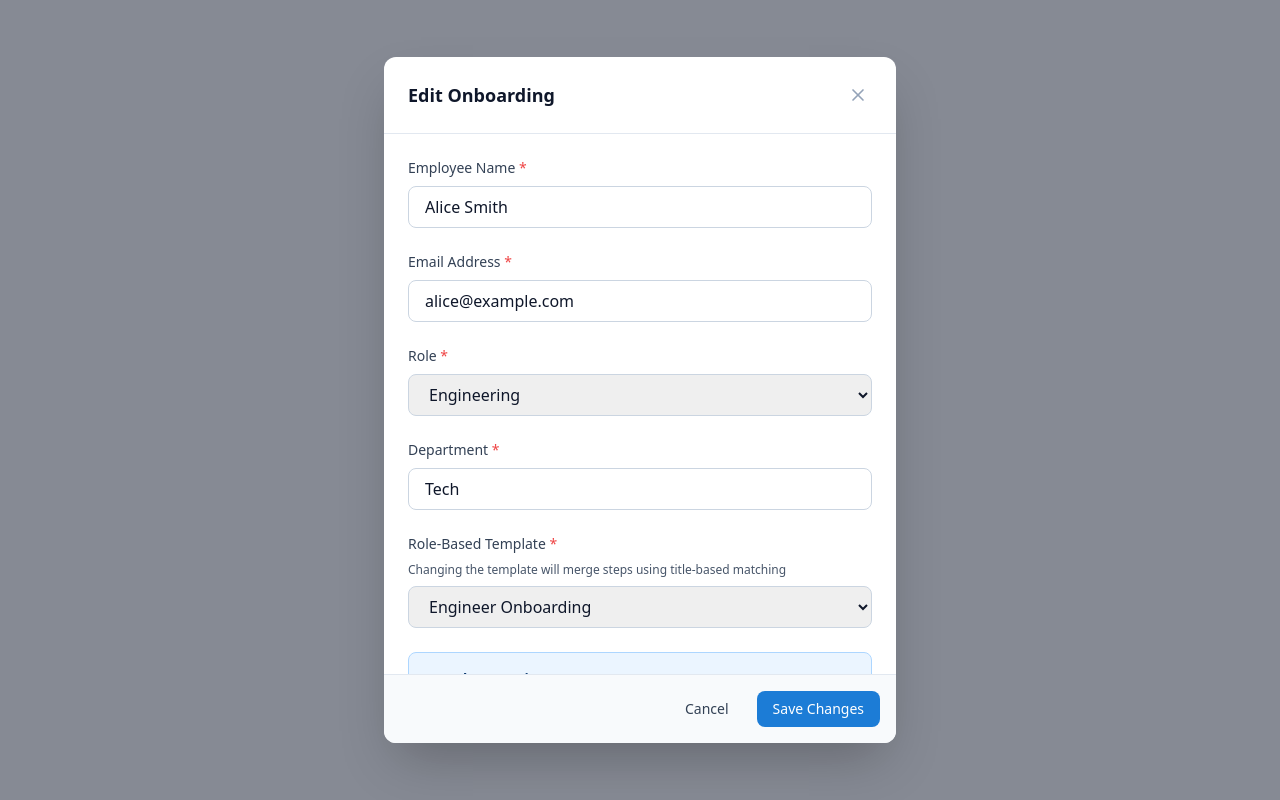
Scenario: EditHireModal › Validation › shows validation error for invalid email format
Replace the text in the field named "employee email" with "not-an-email" at coordinates (640, 301), box [408, 280, 872, 322]
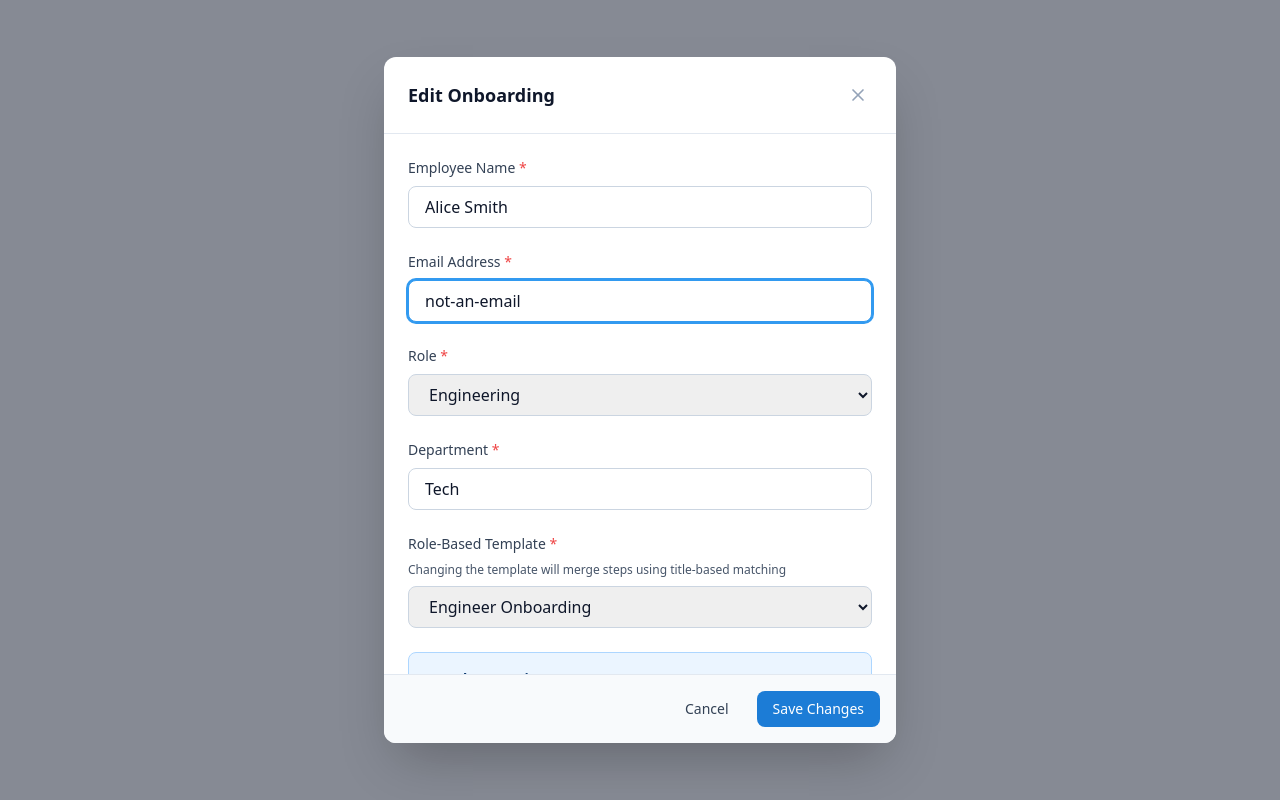
Click the button "Save Changes" at coordinates (818, 709), box [757, 691, 880, 727]
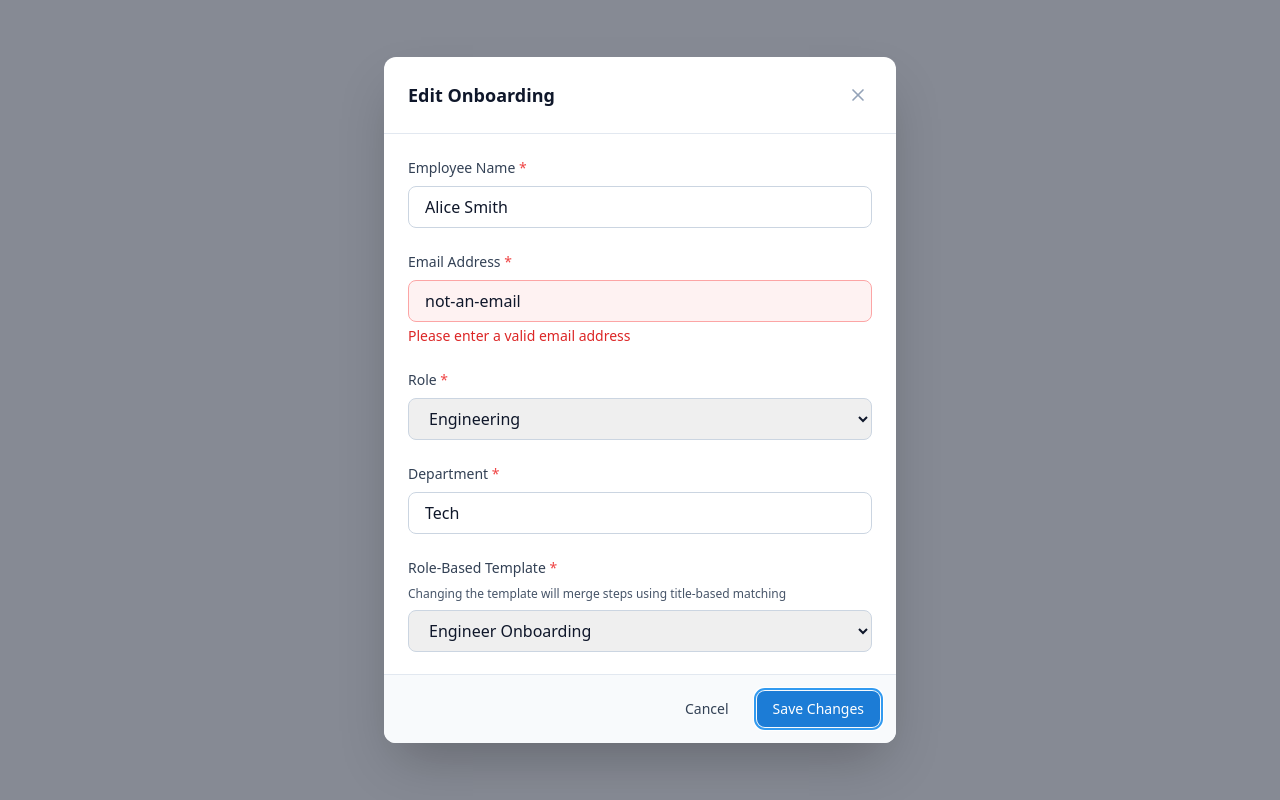
Result: the text "Please enter a valid email address" is shown at [408, 326, 630, 345]
